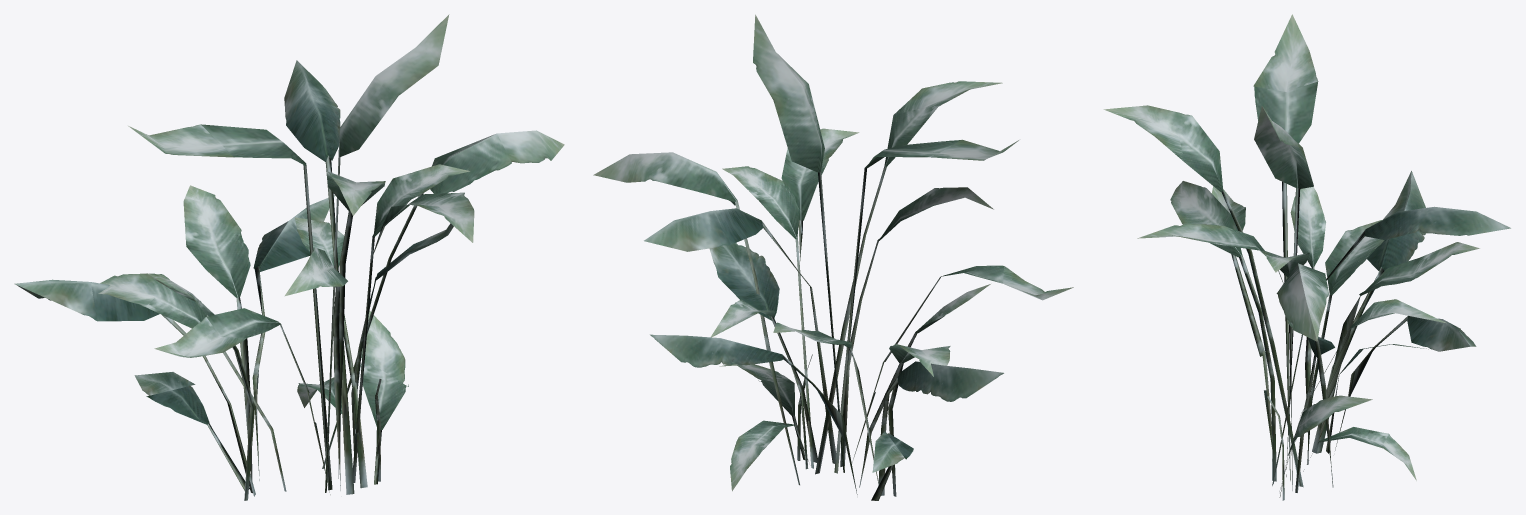
The model's file is 3-1_zhiwui1.FBX.
3 views of the same model, side by side, from view 1: azimuth 30°, elevation 25°; view 2: azimuth 150°, elevation 25°; view 3: azimuth 270°, elevation 25° (orthographic). The views are drawn at different scales.
Parts seen in each view (by area): view 1: 3-1_zhiwui1; view 2: 3-1_zhiwui1; view 3: 3-1_zhiwui1.
Part boxes in pixels (x1,y1,x2,y2): 3-1_zhiwui1: [14, 14, 564, 500]; 3-1_zhiwui1: [593, 14, 1073, 500]; 3-1_zhiwui1: [1103, 14, 1510, 500].
Size of the model in its own units: 256 by 227 by 200.
